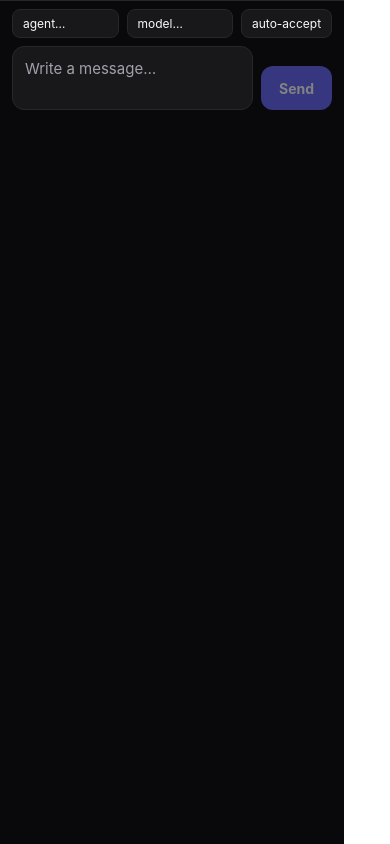
Test: Composer › reports a failed send with the HTTP status
In the text box with placeholder "Write a message…": (132, 78) [12,46,253,110], type "hi"
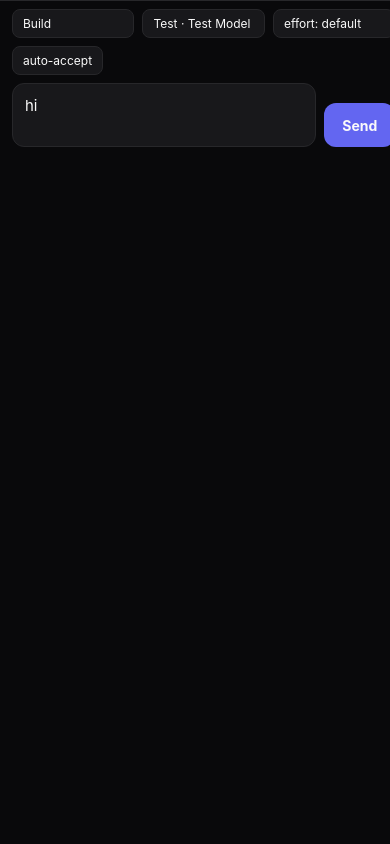
Click the text "Send": click(360, 125) [342,116,377,134]
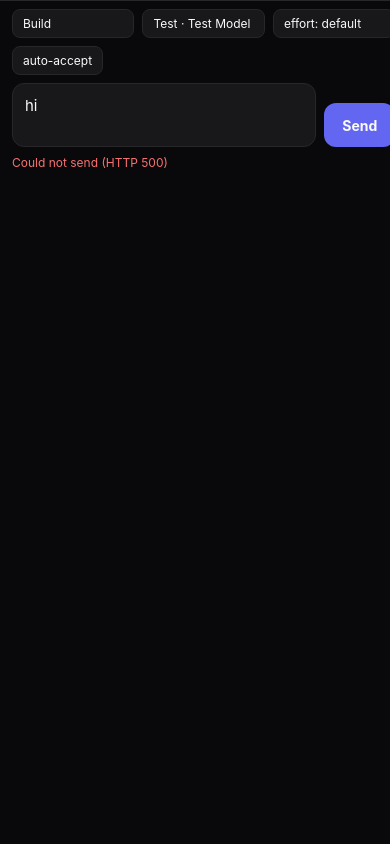
Now the text "Could not send (HTTP 500)" is shown, box [12,155,168,170]
